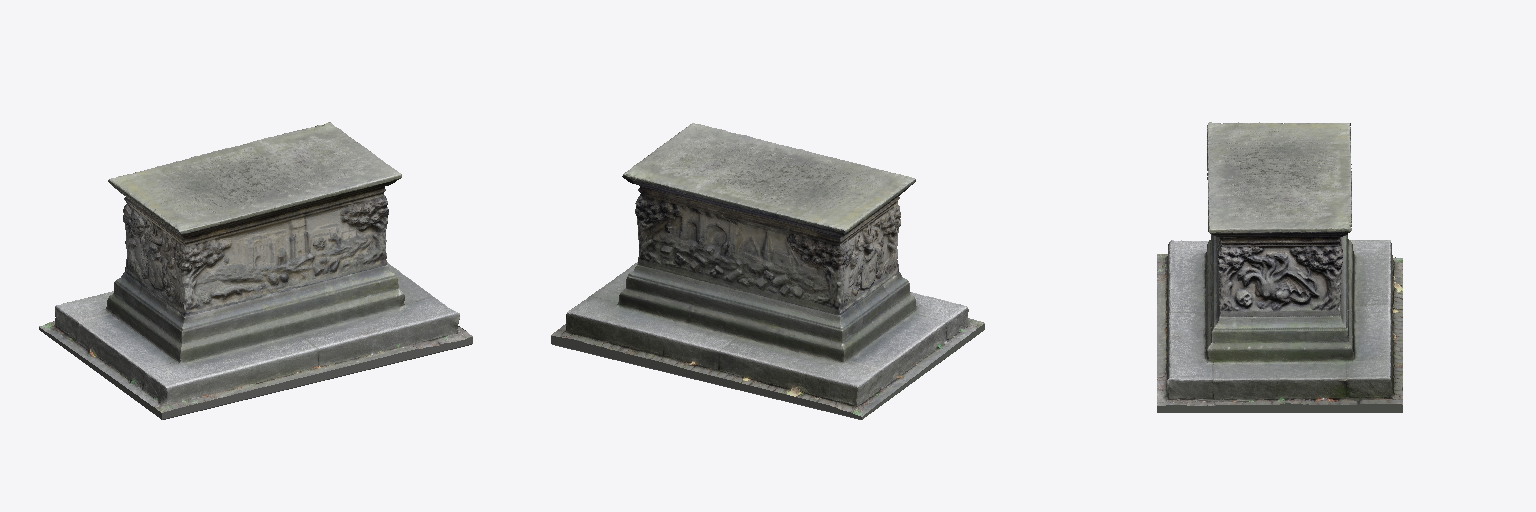
The picture shows the model from 3 angles: view 1: azimuth 30°, elevation 25°; view 2: azimuth 150°, elevation 25°; view 3: azimuth 270°, elevation 25°; orthographic projection.
Parts seen in each view (by area): view 1: garden-tomb; view 2: garden-tomb; view 3: garden-tomb.
Part boxes in pixels (bbox=[...]): garden-tomb: bbox=[39, 122, 472, 419]; garden-tomb: bbox=[551, 123, 984, 419]; garden-tomb: bbox=[1157, 122, 1402, 412].
Bounding box in the file's own units: 11.46 × 5.77 × 7.85.
2 materials, 1 textured.